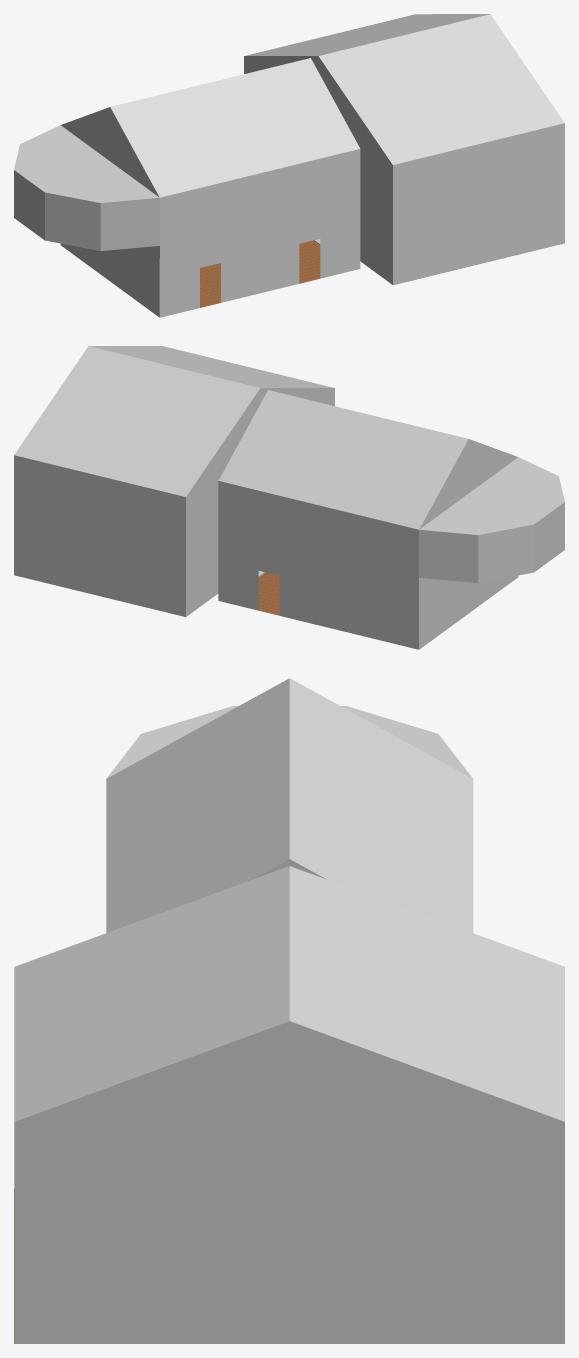
The model's file is Roof_Walls_Floors.fbx.
The picture shows the model from 3 angles, top to bottom: view 1: azimuth 30°, elevation 25°; view 2: azimuth 150°, elevation 25°; view 3: azimuth 270°, elevation 25°; orthographic projection. The views are drawn at different scales.
Visible parts, largest first — view 1: Foe_roof, Main_wall_left, Main_roof, Foe_wall_left, Balcony_wall, Foe_wall_arc, Main_wall_front_bottom, Main_wall_roof_front, Floor_low.001; view 2: Foe_roof, Main_wall_right, Main_roof, Foe_wall_right, Balcony_wall, Foe_wall_arc, Main_wall_front_bottom, Main_wall_roof_front, Floor_low.001; view 3: Foe_wall_back, Foe_roof, Main_roof, Balcony_wall.
Boxes of the visible parts, left/top/right/bottom form: Foe_roof: left=245, top=14, right=564, bottom=164; Main_wall_left: left=159, top=149, right=360, bottom=317; Main_roof: left=110, top=58, right=360, bottom=197; Foe_wall_left: left=393, top=123, right=564, bottom=284; Balcony_wall: left=14, top=125, right=159, bottom=250; Foe_wall_arc: left=244, top=56, right=392, bottom=284; Main_wall_front_bottom: left=60, top=243, right=159, bottom=317; Main_wall_roof_front: left=61, top=107, right=159, bottom=197; Floor_low.001: left=200, top=240, right=320, bottom=307; Foe_roof: left=14, top=346, right=333, bottom=496; Main_wall_right: left=218, top=481, right=418, bottom=649; Main_roof: left=218, top=390, right=468, bottom=529; Foe_wall_right: left=14, top=455, right=185, bottom=616; Balcony_wall: left=419, top=457, right=564, bottom=583; Foe_wall_arc: left=186, top=388, right=334, bottom=616; Main_wall_front_bottom: left=419, top=575, right=518, bottom=649; Main_wall_roof_front: left=419, top=439, right=517, bottom=529; Floor_low.001: left=258, top=572, right=279, bottom=615; Foe_wall_back: left=14, top=1021, right=564, bottom=1343; Foe_roof: left=14, top=866, right=564, bottom=1121; Main_roof: left=106, top=678, right=473, bottom=932; Balcony_wall: left=106, top=706, right=472, bottom=778.
Bounding box in the file's own units: 2413 × 873 × 1351.
